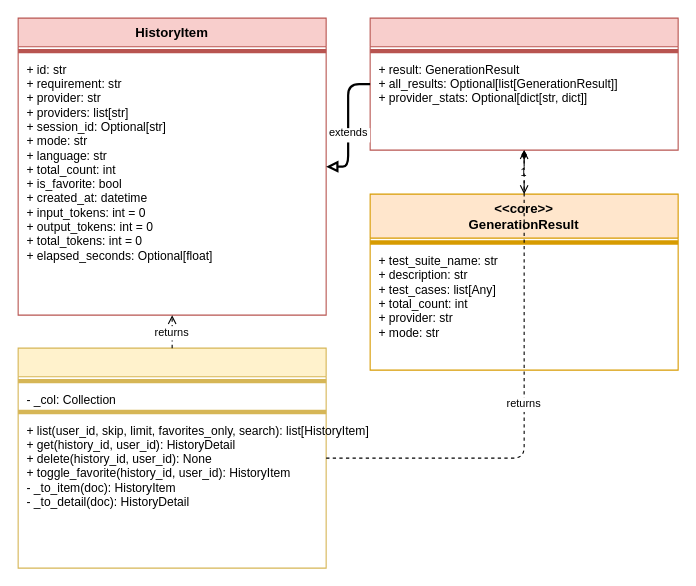
Some shapes in this 696 by 586 pixel diagram are drawn without their labels. Here are the shapes that lost their labels. From the top down, the box of each, then its label:
(369, 17, 678, 150): HistoryDetail
(17, 347, 326, 568): HistoryService
